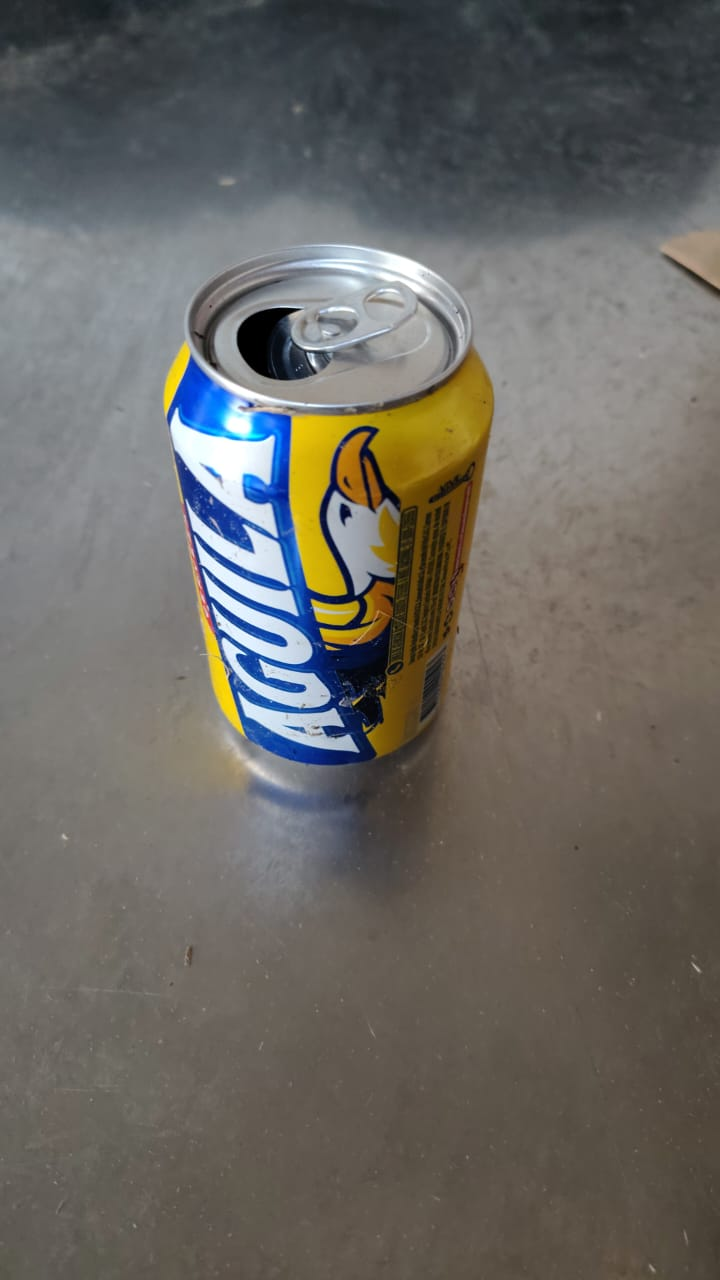Metal: (161, 245, 493, 768)
